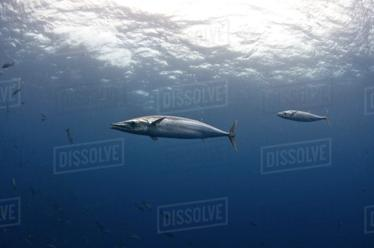Scombridae -Tunas-: (108, 114, 239, 153), (275, 107, 333, 127)
